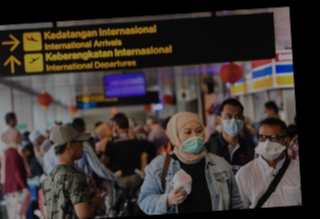with_mask: (175, 124, 207, 154), (255, 129, 285, 158), (220, 111, 244, 136)
without_mask: (73, 139, 86, 158)
